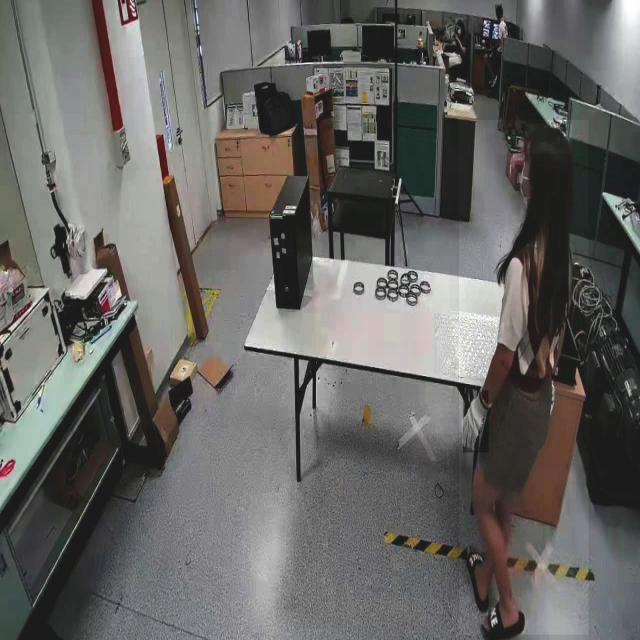hand_glove: (463, 391, 489, 454)
head_nohelmet: (525, 124, 573, 154), (495, 5, 503, 12), (456, 18, 464, 24)
person: (459, 120, 589, 636)
